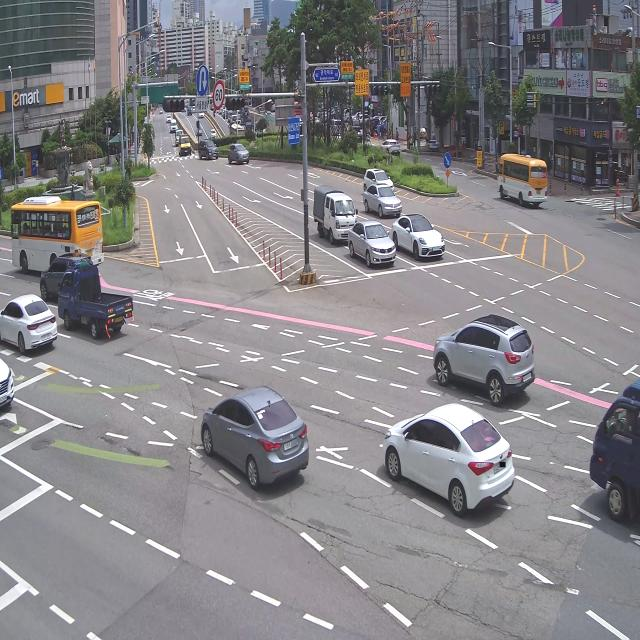Bus: (9, 194, 120, 284), (490, 148, 556, 217)
Car: (372, 391, 517, 541), (421, 295, 552, 416), (191, 380, 316, 504), (0, 284, 64, 359), (341, 202, 396, 276), (388, 203, 449, 262), (365, 185, 401, 225), (362, 168, 397, 193), (227, 135, 251, 170), (198, 135, 220, 168)
Truck: (52, 258, 152, 342), (309, 180, 362, 249)
